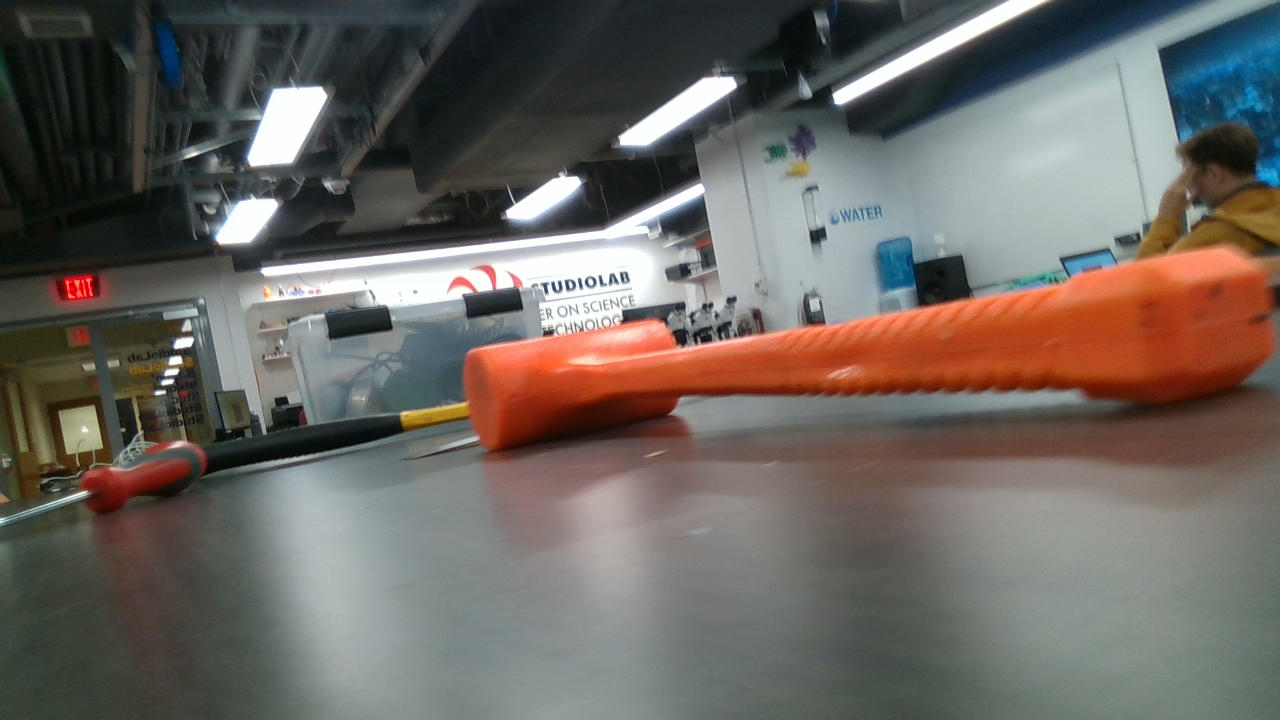Orange Hammer: (463, 250, 1271, 448)
